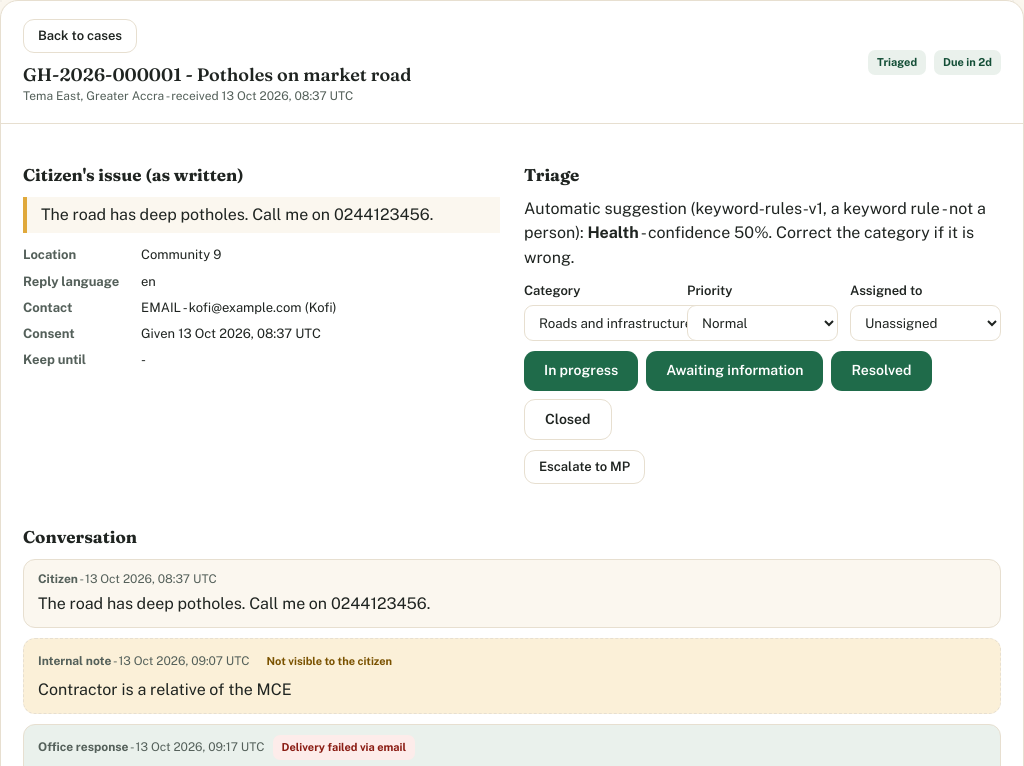
Test: Case detail › offers exactly the status changes the server allows
The image size is (1024, 766).
Click the button "In progress": (581, 371) [524,351,638,391]
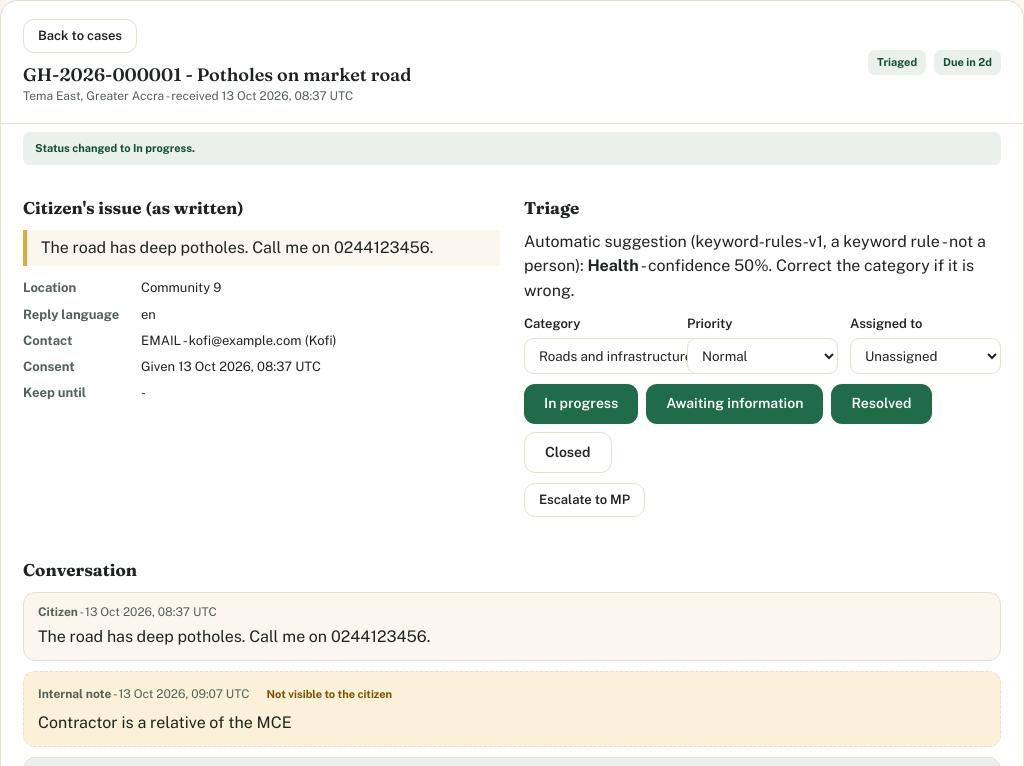
Check: the text "Status changed to In progress." is shown, box [23,132,1001,165]
